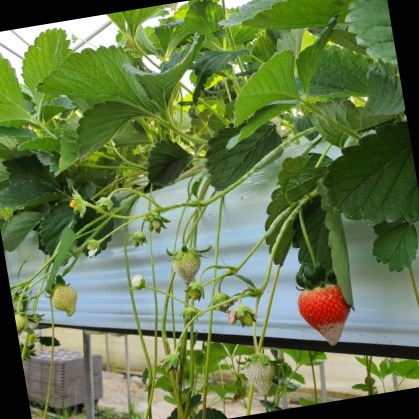Powdery_Fruit: (280, 282, 333, 364), (215, 352, 261, 405), (163, 244, 192, 278)
